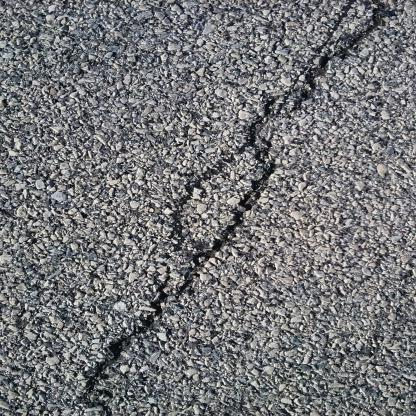Cracks: (71, 1, 407, 416)
